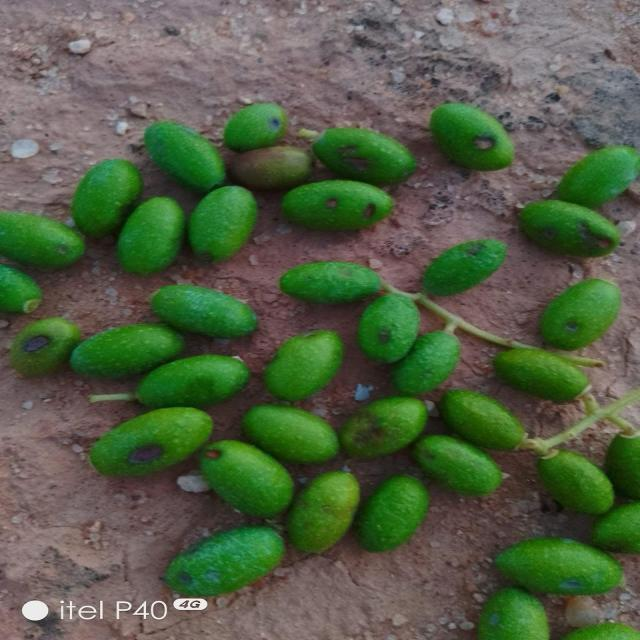Anthracnose: (89, 407, 212, 477), (164, 526, 284, 597), (494, 538, 623, 596), (200, 441, 293, 518), (299, 127, 416, 188), (518, 199, 620, 258), (429, 103, 514, 171), (540, 279, 621, 350), (282, 180, 392, 230), (341, 397, 426, 458), (422, 240, 506, 296), (0, 212, 84, 268), (358, 294, 420, 362), (10, 317, 81, 376), (224, 103, 288, 152)
